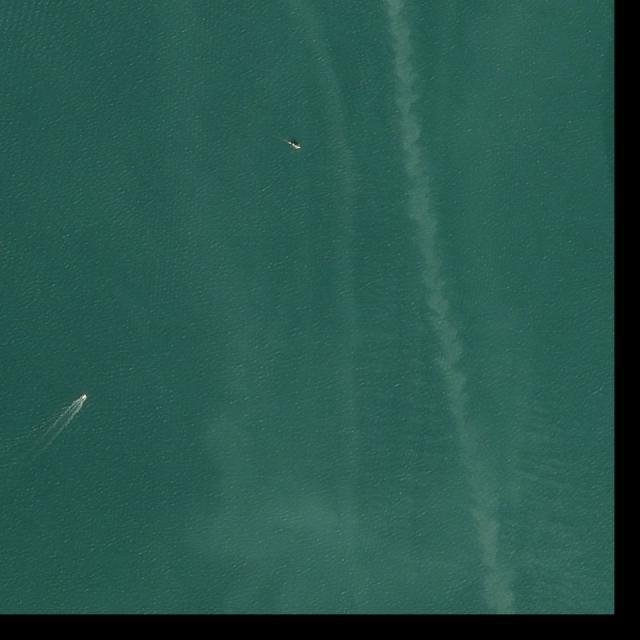ship: (291, 142, 302, 150), (81, 394, 88, 400)
